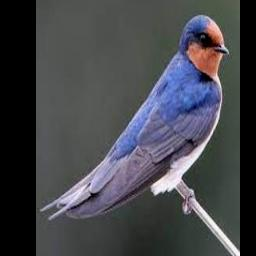Swallow: (40, 15, 228, 221)
